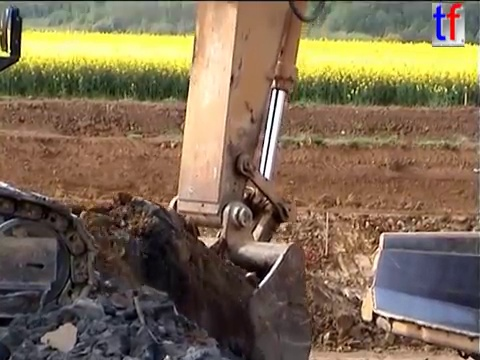excavator: (1, 1, 329, 360)
truck: (356, 227, 480, 360)
